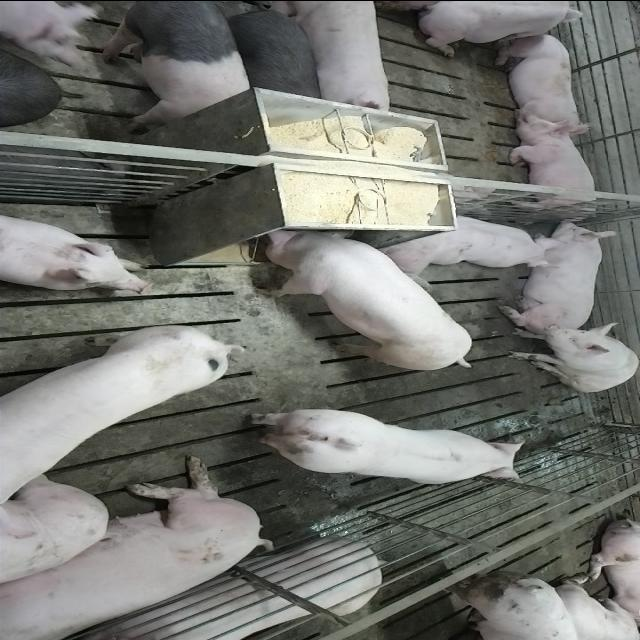Feeding: (247, 219, 475, 367)
Lateral_lying: (4, 453, 278, 637), (64, 537, 382, 640)
Sitting: (503, 321, 638, 391)
Standing: (0, 317, 240, 507), (238, 407, 524, 487), (94, 1, 256, 127), (284, 2, 392, 114), (220, 2, 325, 106)
Sternal_lying: (0, 208, 153, 292), (506, 216, 616, 326), (375, 210, 561, 274), (492, 30, 590, 132), (414, 2, 596, 56), (506, 119, 604, 215)
